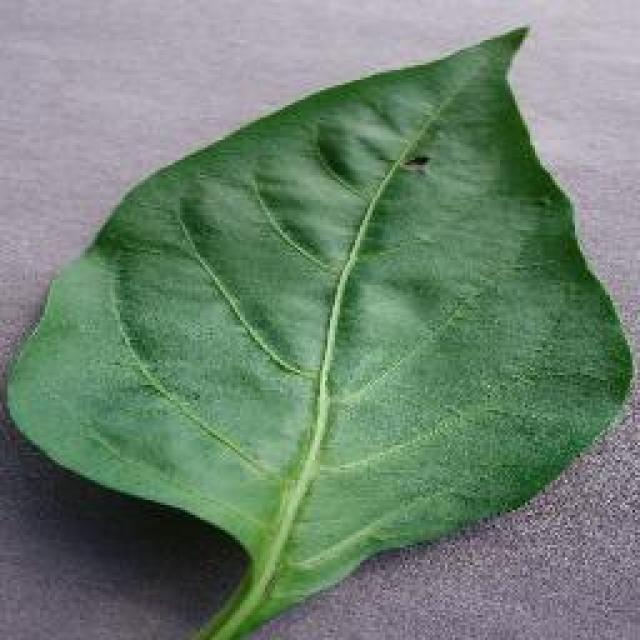Chilli_Healthy: (3, 20, 635, 638)
